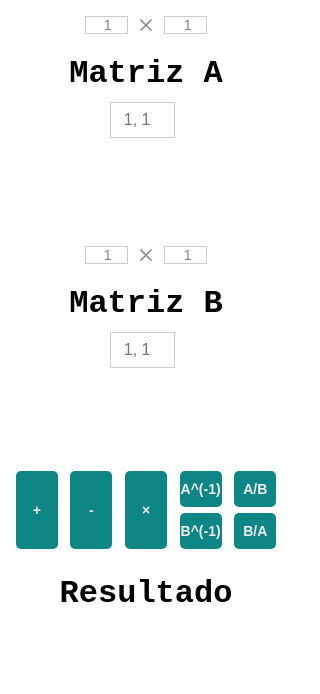
Componente de MatrizForm › Verificar que la inversa de B, contenga la etiqueta del determinante
The image size is (320, 694).
# Cambia el valor del input 1, 1 de la matriz B
In the number field with placeholder "1, 1" below "Matriz B": point(142, 350) [110,332,174,368], type "1"
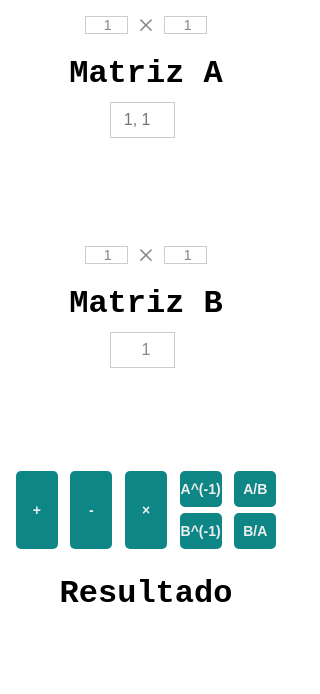
# Obtenemos la referencia del boton
Click the button "B^(-1)": point(201, 531) [180,513,222,549]
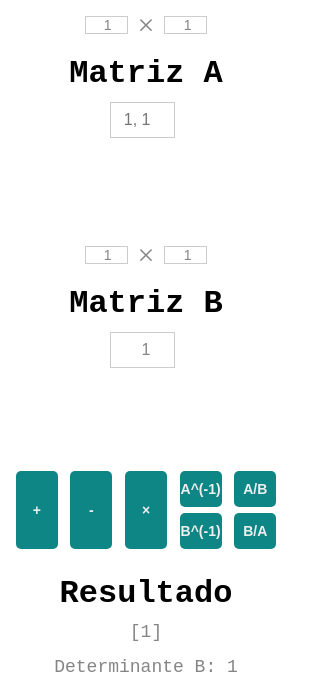
Expected: the text "Determinante B: 1" is shown, [54,657,238,677]
